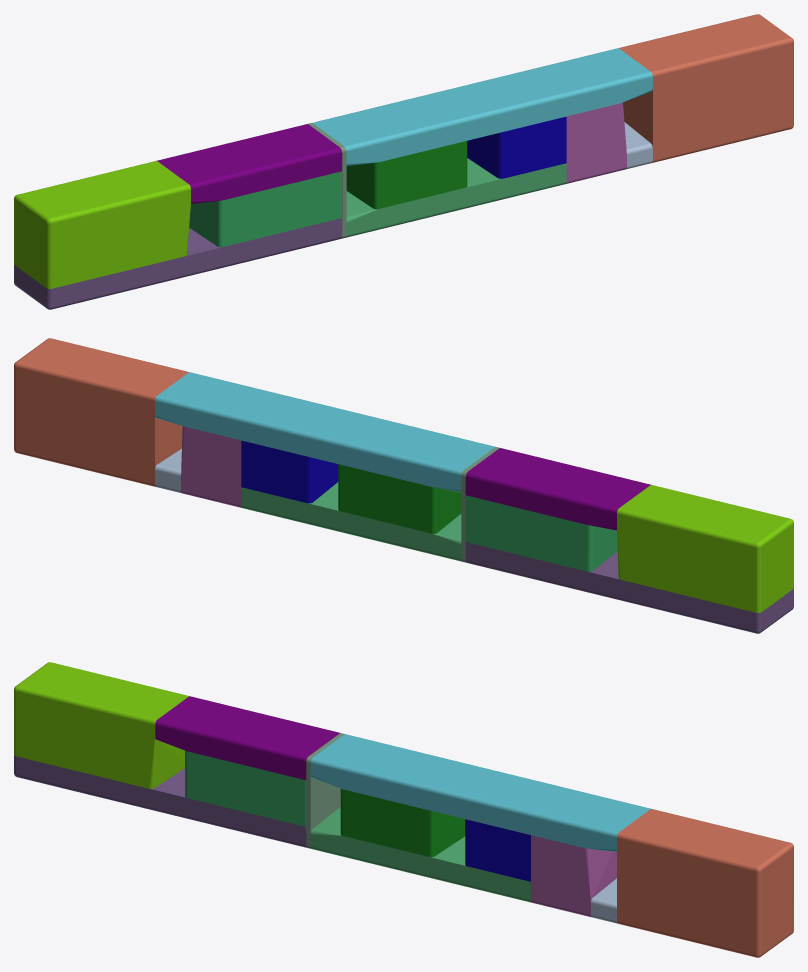
The model's file is 6_canonical.obj.
3 views of the same model, one above another, from view 1: azimuth 30°, elevation 25°; view 2: azimuth 150°, elevation 25°; view 3: azimuth 330°, elevation 25° (orthographic).
Parts seen in each view (by area): view 1: geometry_9, geometry_2, geometry_4, geometry_11, geometry_1, geometry_10, geometry_3, geometry_8, geometry_5, geometry_7, geometry_6, geometry_0; view 2: geometry_9, geometry_2, geometry_4, geometry_11, geometry_1, geometry_10, geometry_8, geometry_3, geometry_5, geometry_7, geometry_6, geometry_0; view 3: geometry_9, geometry_2, geometry_4, geometry_11, geometry_1, geometry_10, geometry_3, geometry_8, geometry_7, geometry_5, geometry_0, geometry_6.
Part boxes in pixels (left/top/right/bottom): geometry_9: left=618, top=14, right=793, bottom=162; geometry_2: left=312, top=48, right=652, bottom=165; geometry_4: left=14, top=161, right=190, bottom=288; geometry_11: left=156, top=124, right=342, bottom=203; geometry_1: left=14, top=218, right=342, bottom=309; geometry_10: left=189, top=171, right=341, bottom=247; geometry_3: left=346, top=158, right=566, bottom=237; geometry_8: left=346, top=141, right=467, bottom=209; geometry_5: left=467, top=116, right=566, bottom=178; geometry_7: left=566, top=102, right=626, bottom=183; geometry_6: left=624, top=122, right=652, bottom=169; geometry_0: left=308, top=123, right=346, bottom=238; geometry_9: left=14, top=338, right=189, bottom=486; geometry_2: left=155, top=372, right=495, bottom=492; geometry_4: left=617, top=485, right=793, bottom=612; geometry_11: left=465, top=448, right=651, bottom=530; geometry_1: left=465, top=542, right=793, bottom=633; geometry_10: left=465, top=495, right=617, bottom=571; geometry_8: left=338, top=464, right=461, bottom=533; geometry_3: left=241, top=482, right=461, bottom=561; geometry_5: left=241, top=440, right=338, bottom=503; geometry_7: left=181, top=426, right=241, bottom=507; geometry_6: left=155, top=448, right=181, bottom=493; geometry_0: left=461, top=447, right=499, bottom=562; geometry_9: left=617, top=809, right=793, bottom=957; geometry_2: left=310, top=734, right=651, bottom=851; geometry_4: left=14, top=662, right=189, bottom=788; geometry_11: left=155, top=696, right=339, bottom=779; geometry_1: left=14, top=755, right=306, bottom=847; geometry_10: left=185, top=750, right=306, bottom=826; geometry_3: left=310, top=807, right=531, bottom=902; geometry_8: left=340, top=788, right=465, bottom=857; geometry_7: left=531, top=835, right=616, bottom=917; geometry_5: left=465, top=819, right=530, bottom=881; geometry_0: left=306, top=733, right=345, bottom=848; geometry_6: left=591, top=878, right=617, bottom=923.
Bounding box in the file's own units: 0.1524 × 0.0178 × 0.0127.
